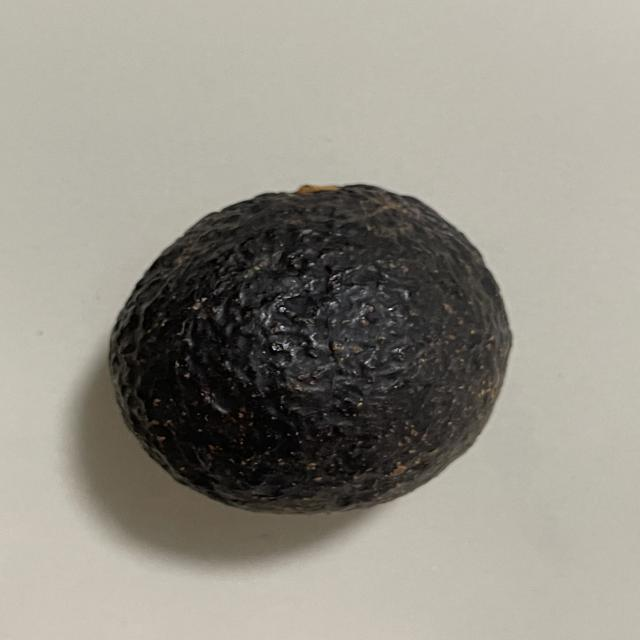Level2: (100, 175, 521, 519)
